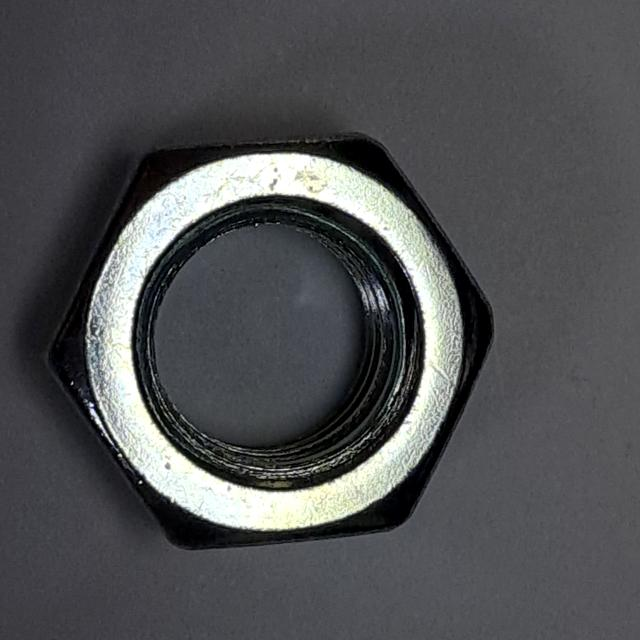Excellent: (29, 115, 508, 564)
